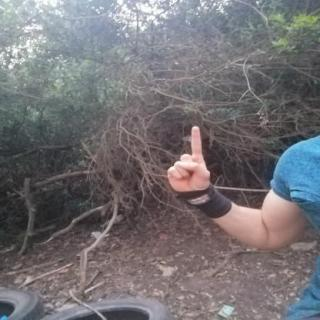BAA: (158, 120, 220, 203)
